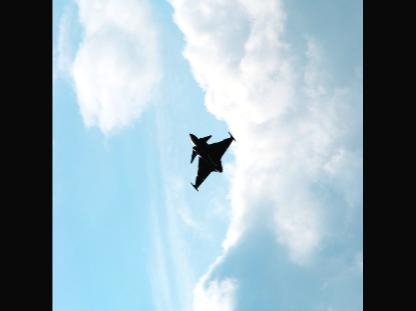JAS39: (188, 130, 236, 190)
